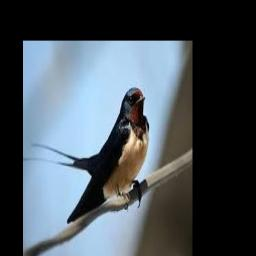Swallow: (23, 87, 149, 224)
